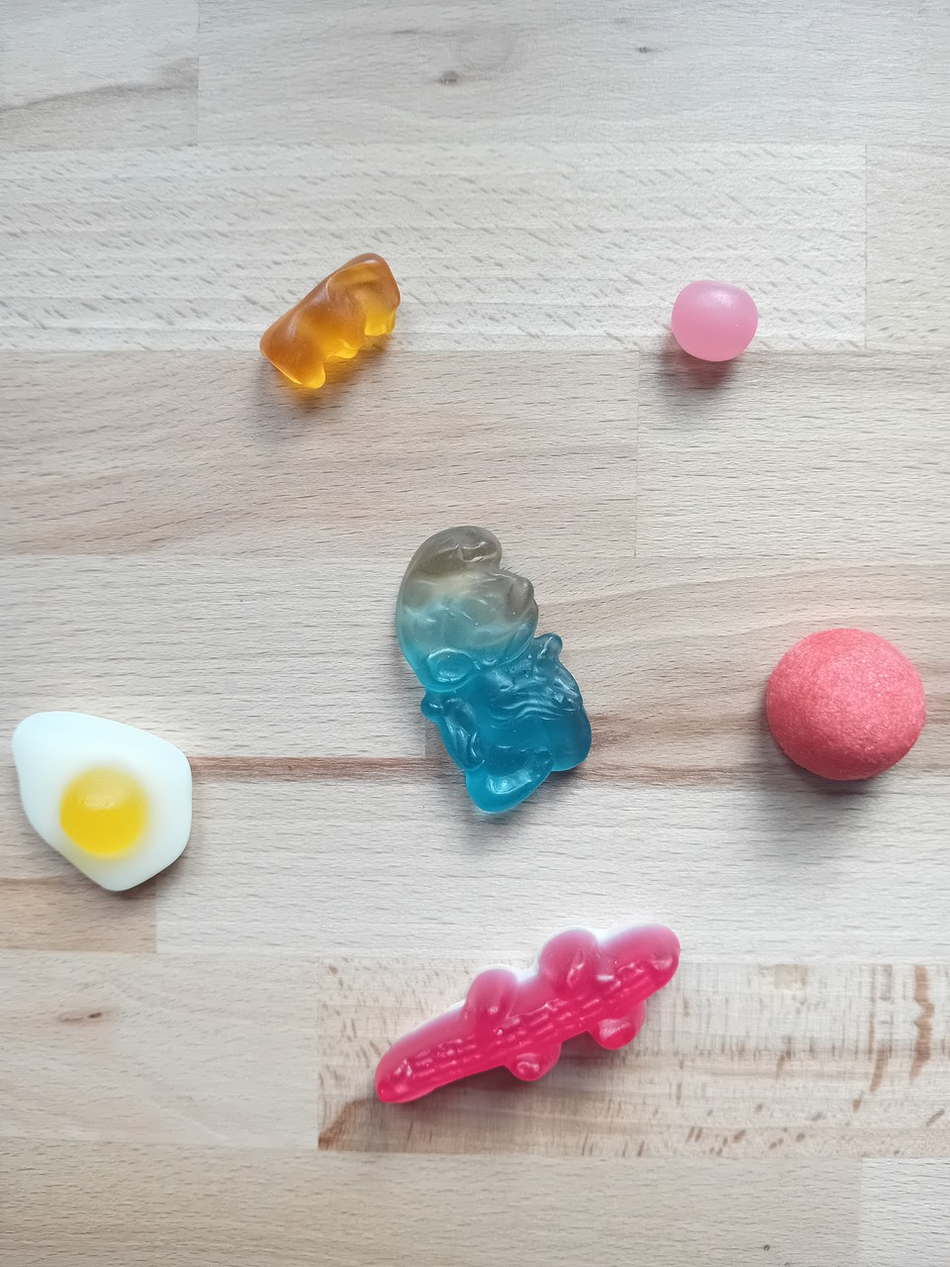crocodile_rouge: (372, 920, 684, 1107)
dragibus_rose: (668, 272, 763, 369)
oeuf_oeuf: (9, 707, 202, 903)
ourson_orangeClair: (252, 250, 407, 398)
schtroumpf_bleu-blanc: (392, 522, 592, 824)
tagada_fraise: (759, 625, 930, 788)
